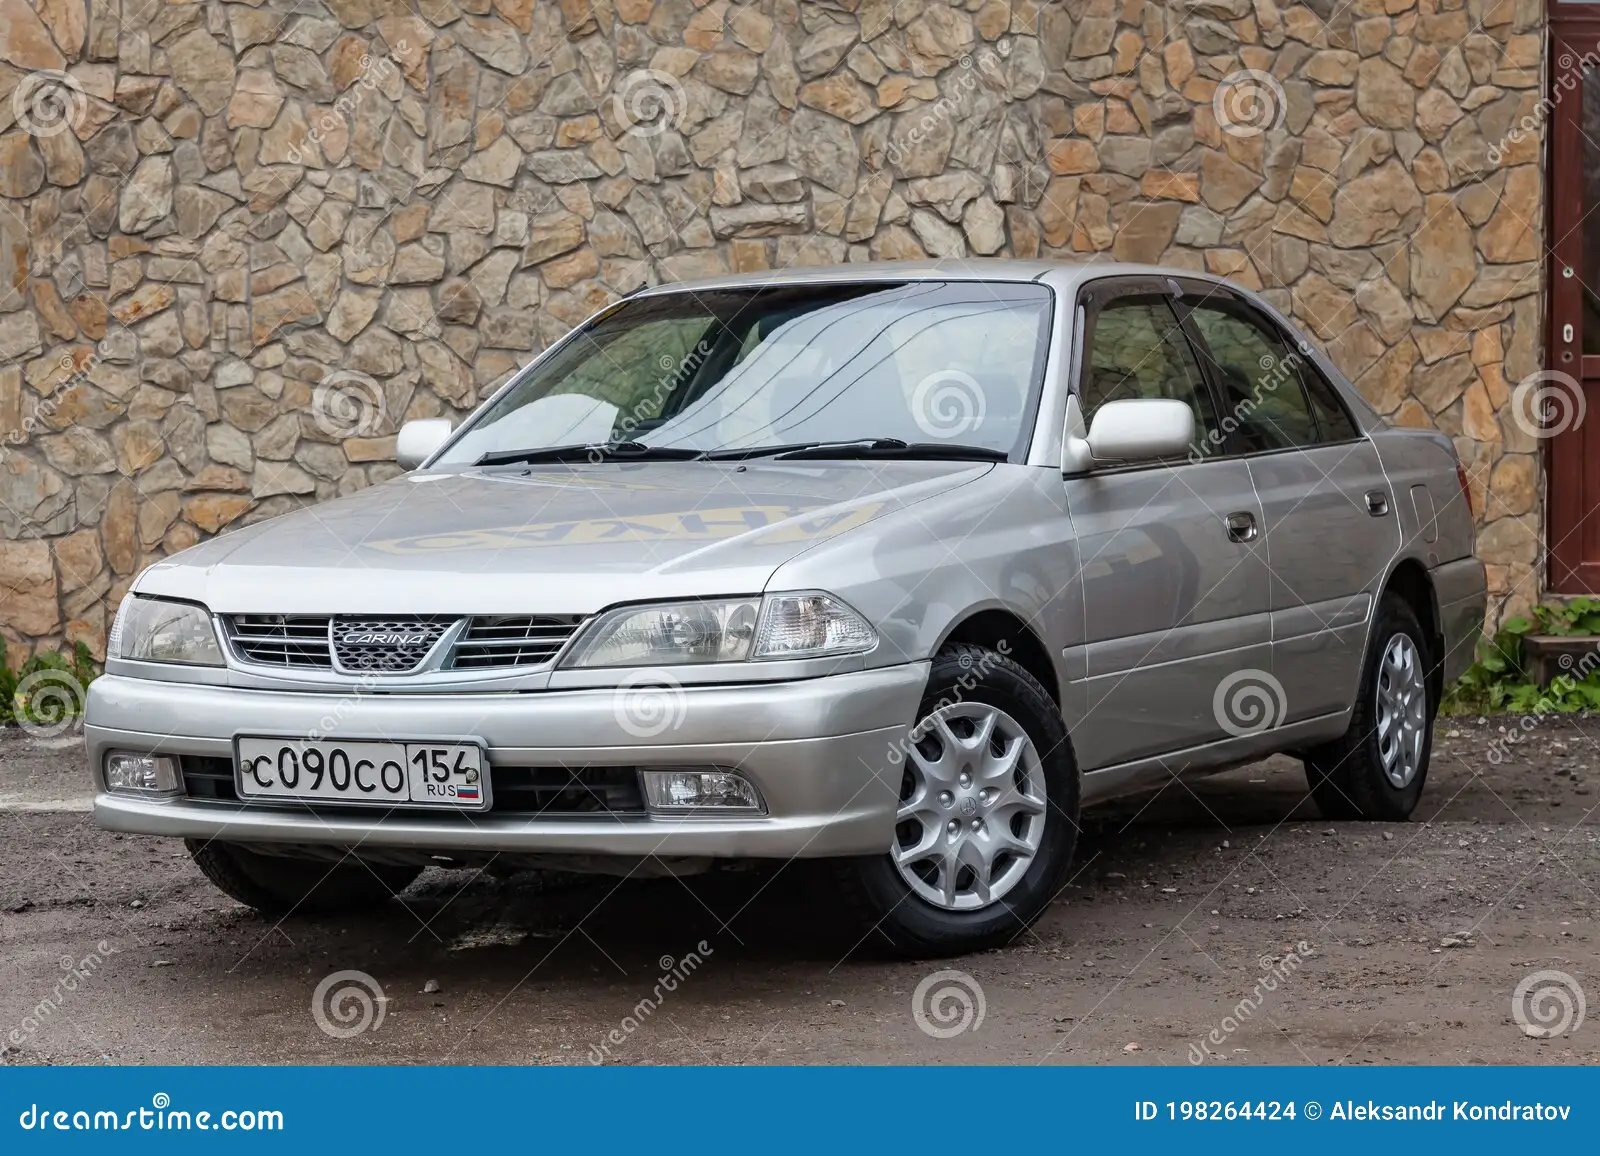car: (76, 242, 1494, 966)
